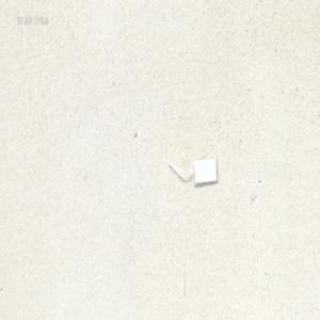LuggageTagtrack_idkeyframe: (165, 156, 218, 184)
